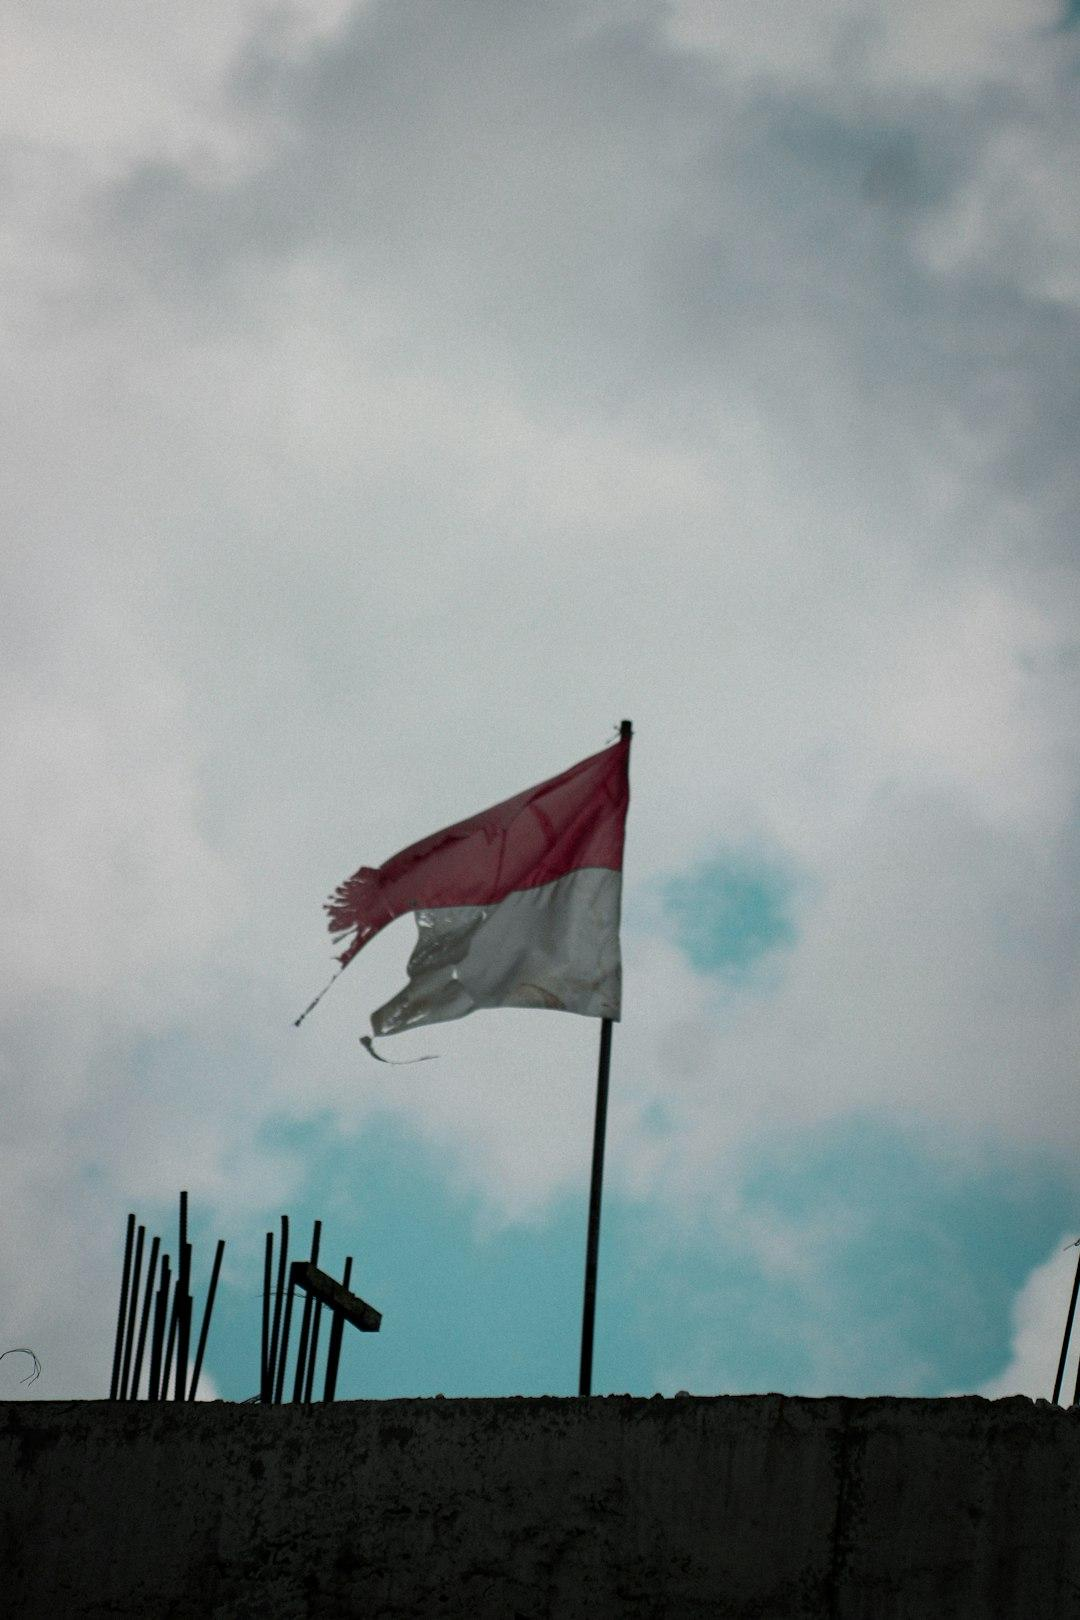Indonesia: (322, 740, 650, 1043)
